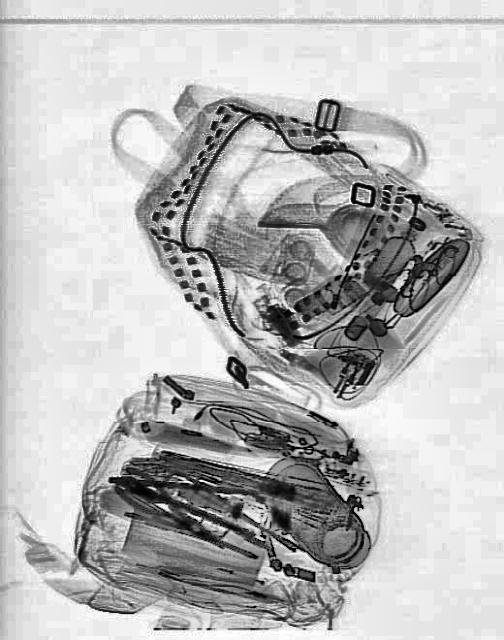Pliers: (111, 460, 225, 560)
